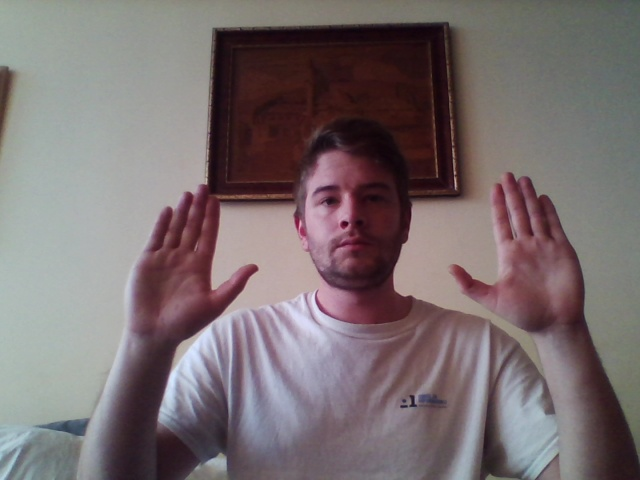prekrasno: (120, 168, 593, 346)
